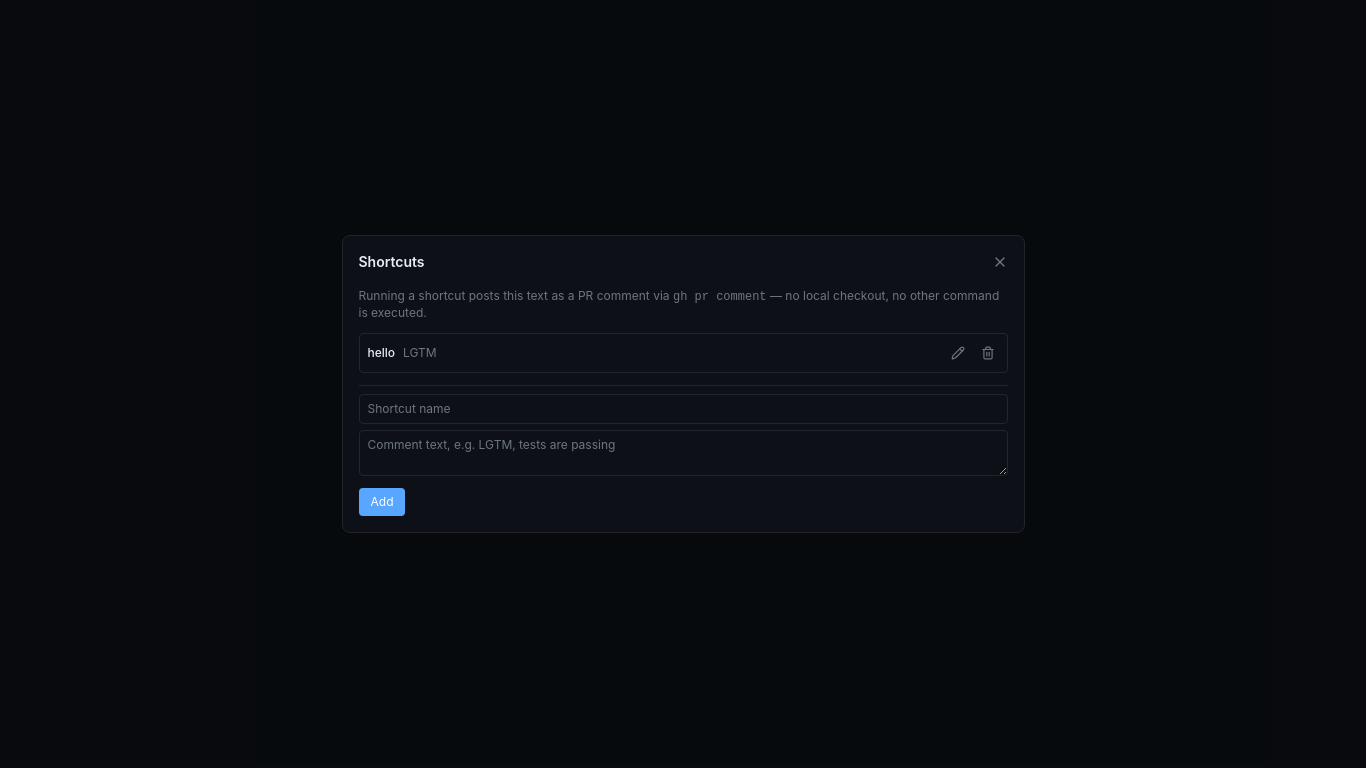
Scenario: ShortcutsManagerModal › edit toggles inline form and Save persists via updateShortcut
Click the button titled "Edit": (958, 353) x1=946 y1=342 x2=968 y2=364
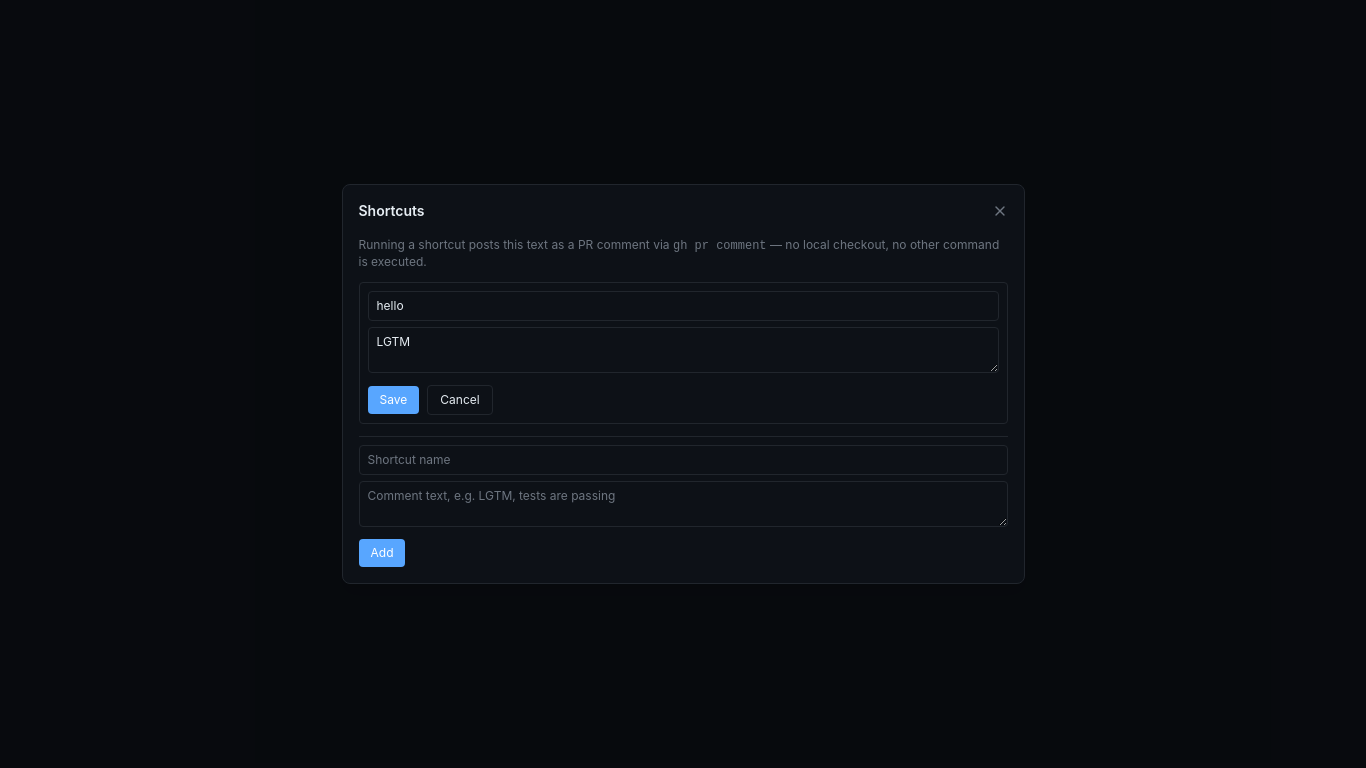
Replace the text in the field showing "hello" with "renamed": (683, 306) x1=368 y1=291 x2=998 y2=321
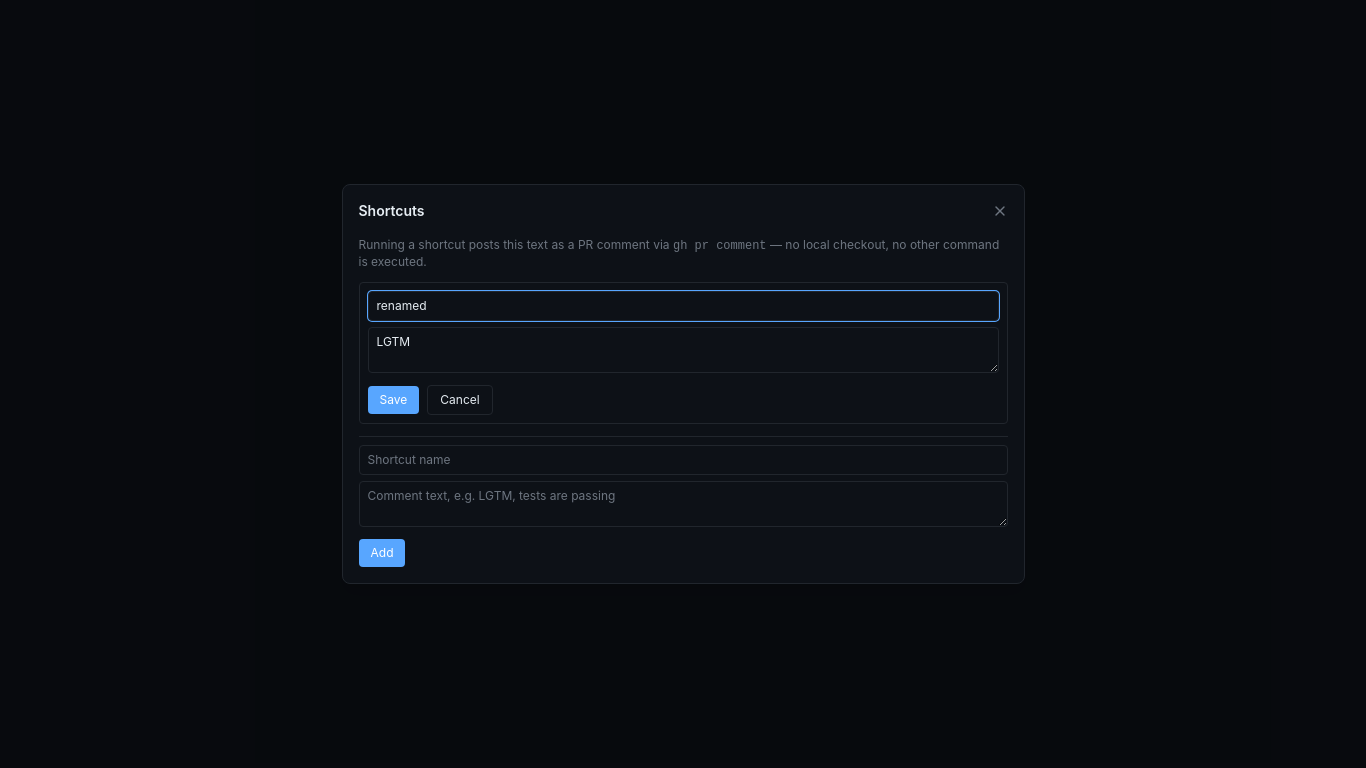
Click the button "Save": (393, 400) x1=368 y1=386 x2=419 y2=414
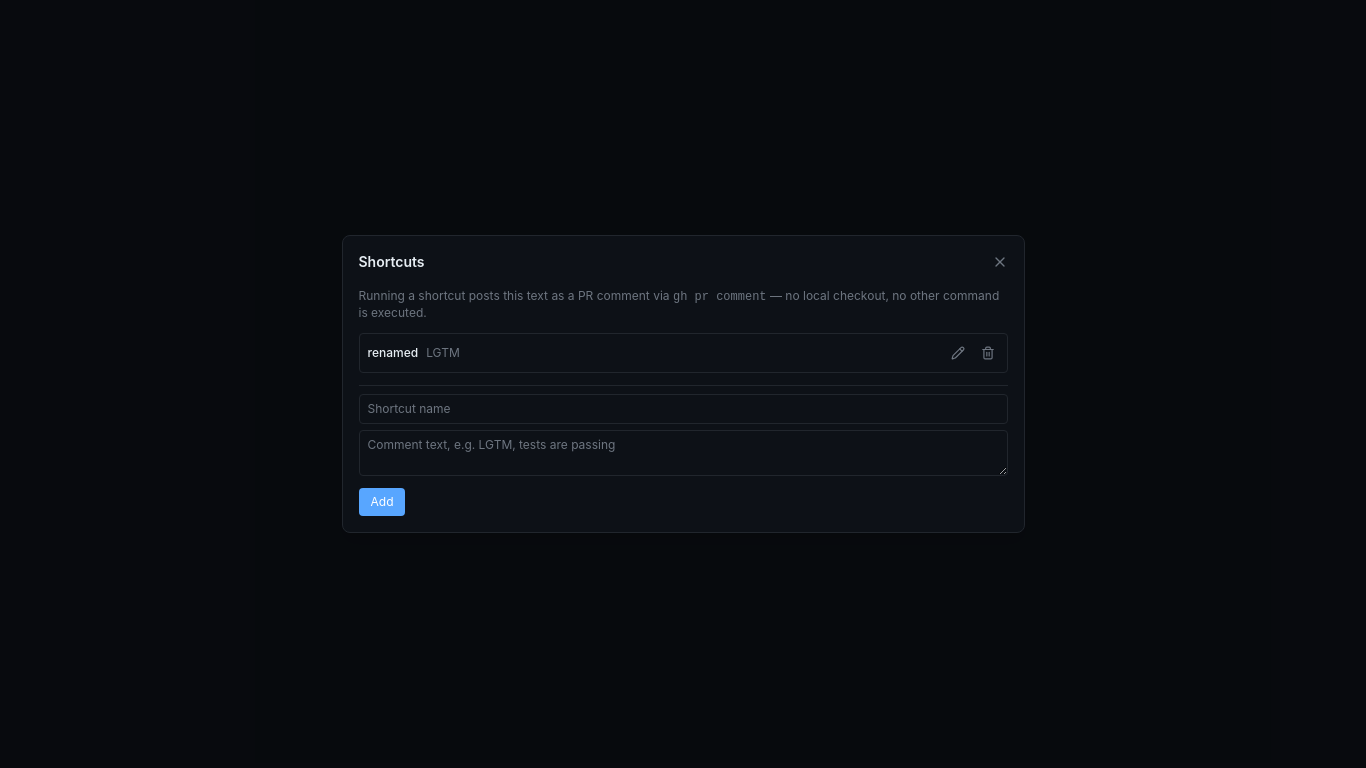
expect the text "renamed" is shown: met, box x1=368 y1=345 x2=418 y2=361
